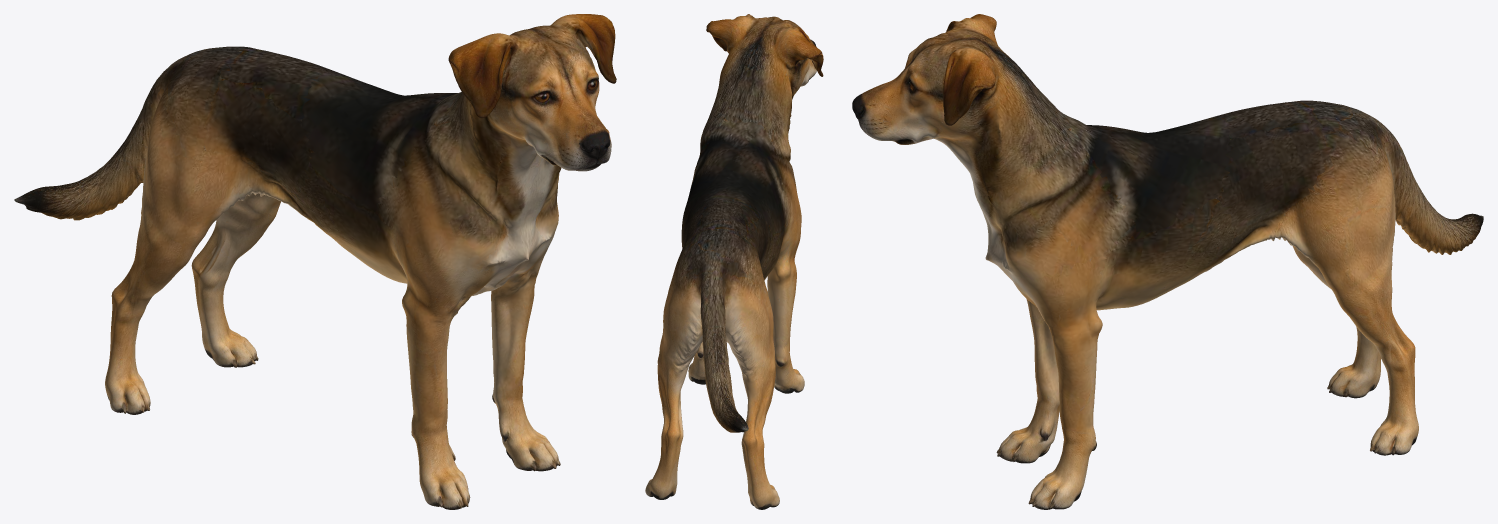
File: dog.glb
3 renders of one model, left to right at view 1: azimuth 30°, elevation 25°; view 2: azimuth 150°, elevation 25°; view 3: azimuth 270°, elevation 25°, orthographic. The views are drawn at different scales.
Size of the model in its own units: 0.5292 by 0.7448 by 0.9499.
Materials: 1 (1 with a texture image).
